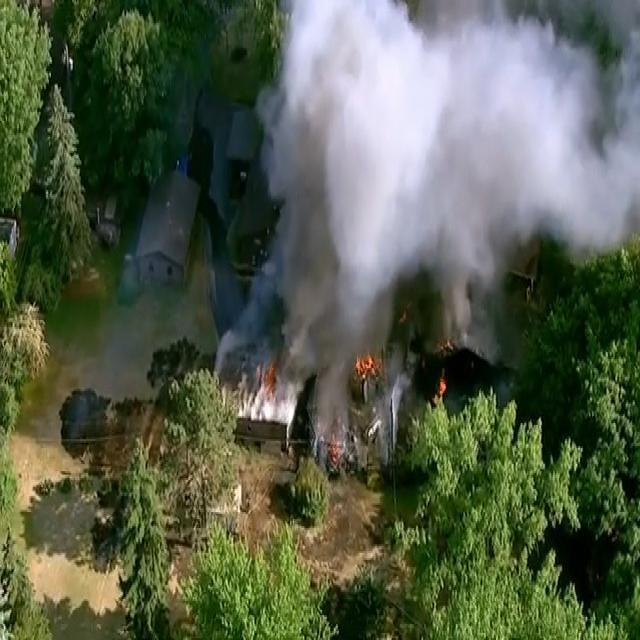Fire: (260, 359, 286, 405), (353, 346, 385, 381), (432, 368, 451, 402)
Smoke: (248, 0, 640, 405)
